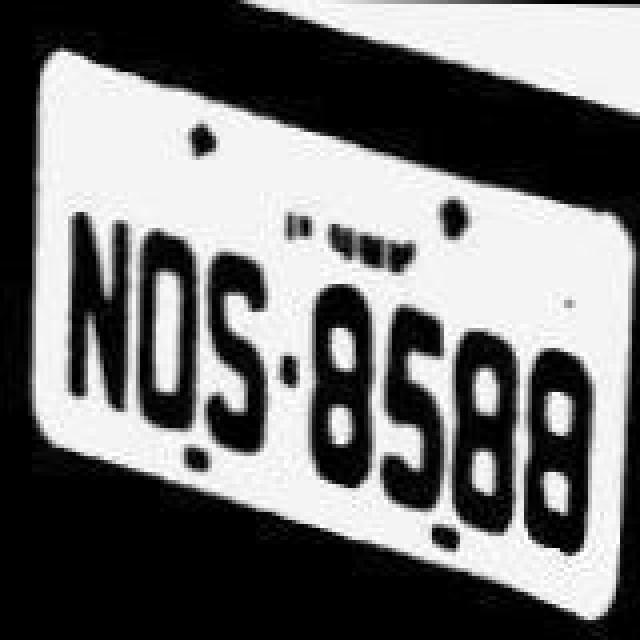5: (368, 300, 448, 520)
8: (522, 326, 598, 578), (446, 286, 522, 534), (294, 276, 378, 492)
N: (56, 172, 140, 428)
O: (124, 194, 200, 442)
S: (196, 244, 272, 456)
